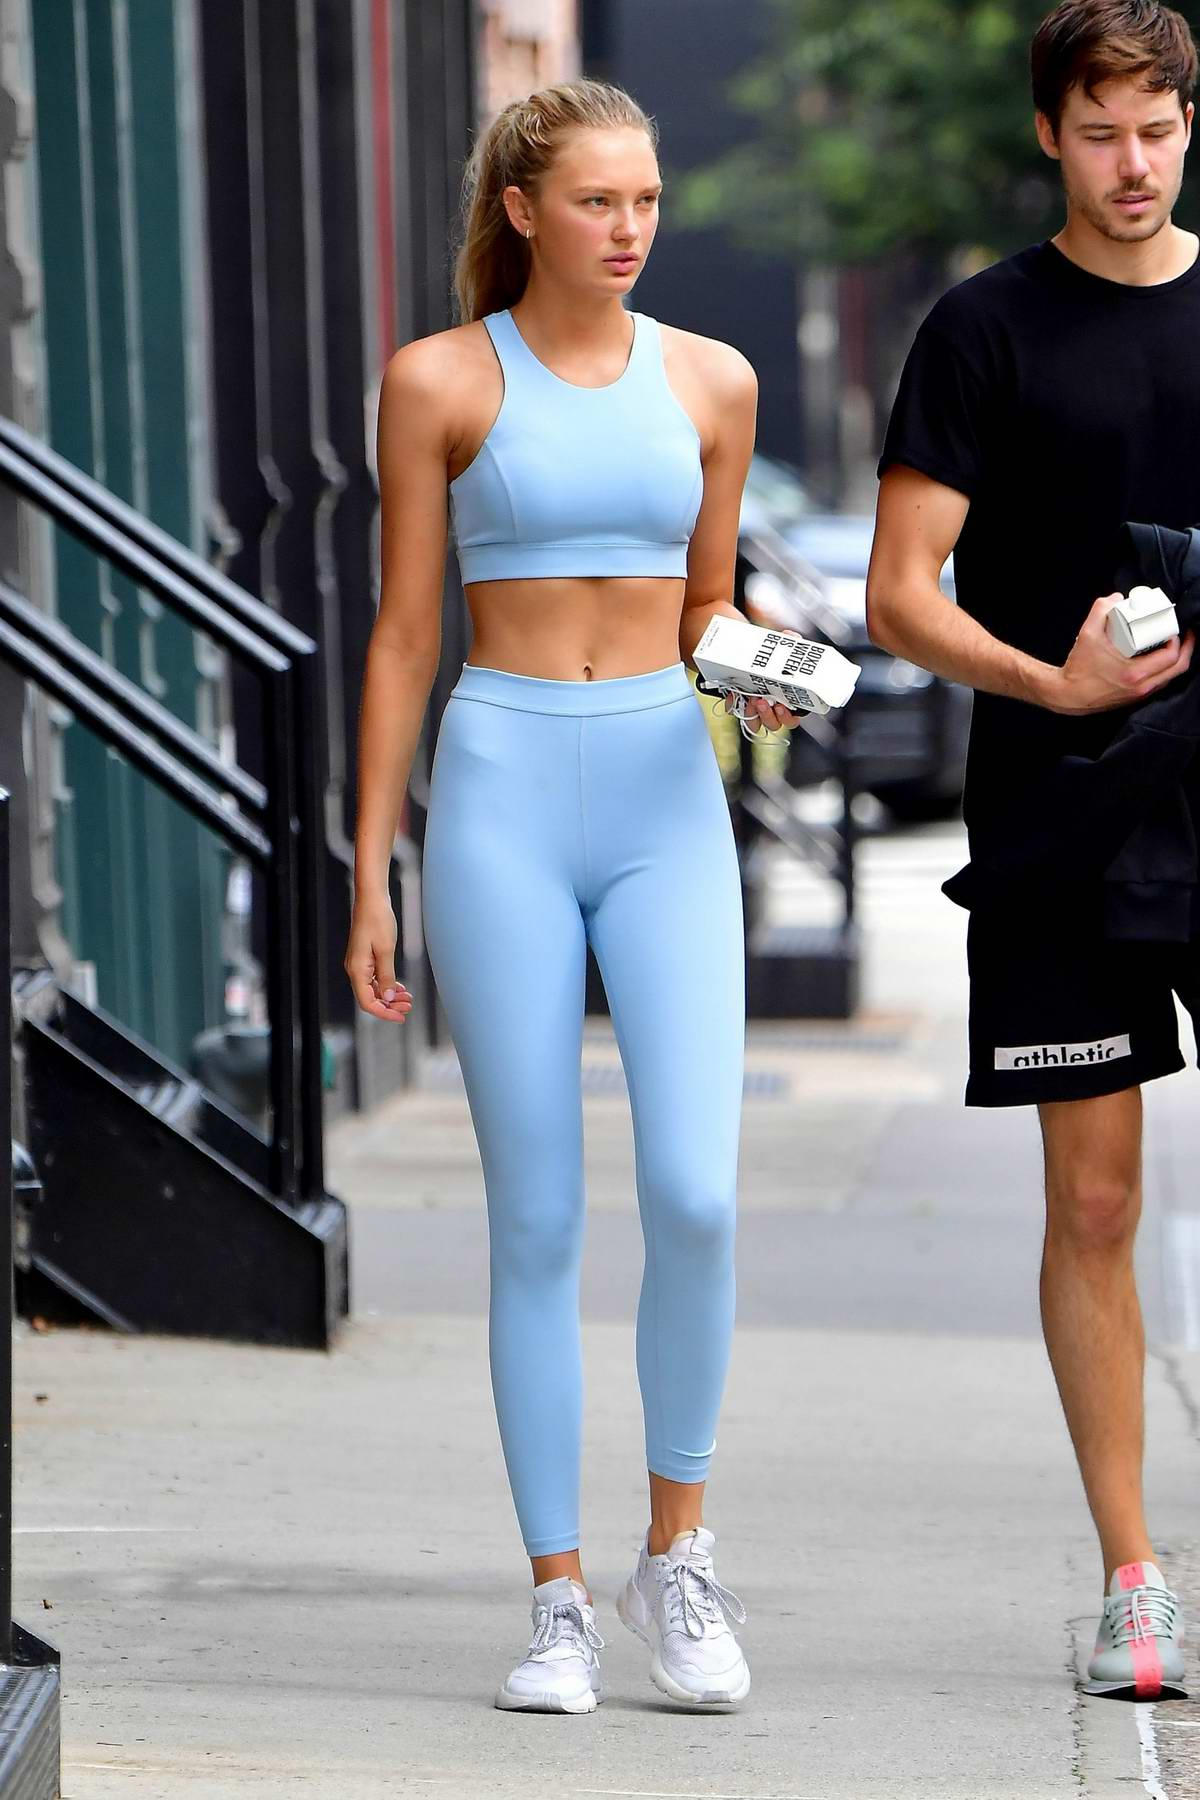Person: (339, 76, 808, 1719), (866, 1, 1200, 1703)
